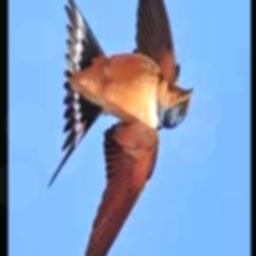Swallow: (47, 0, 197, 256)
